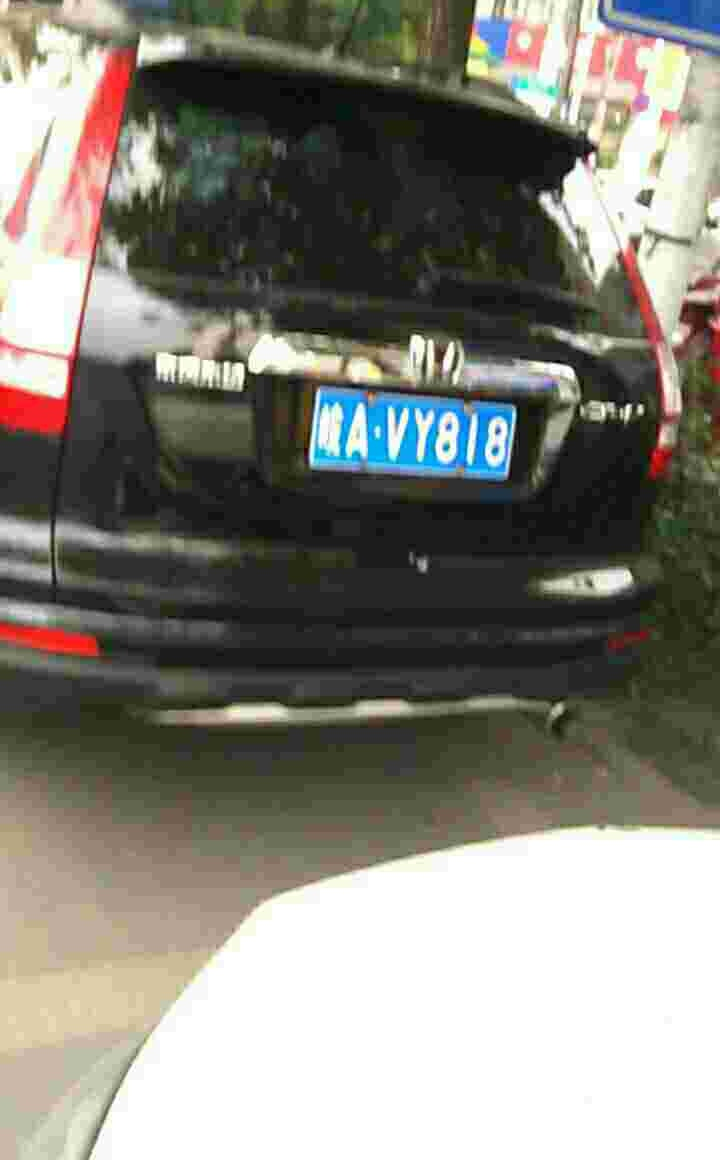plate: (314, 386, 523, 484)
